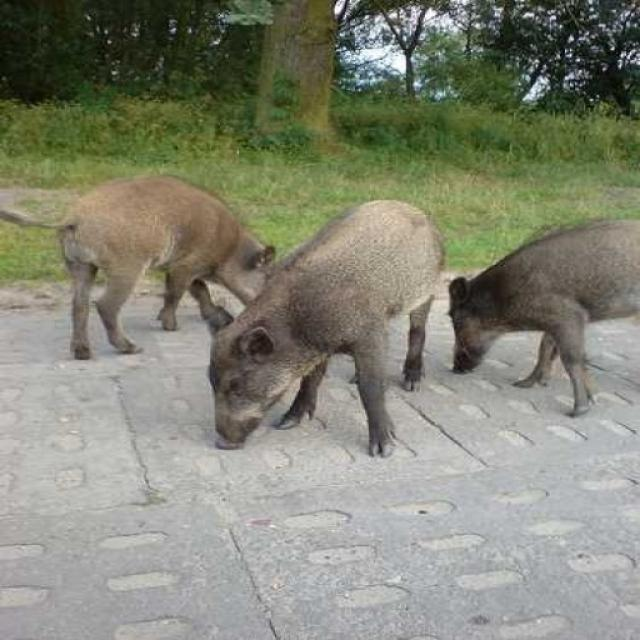pig: (180, 182, 484, 480), (442, 194, 640, 459), (33, 144, 287, 318)
